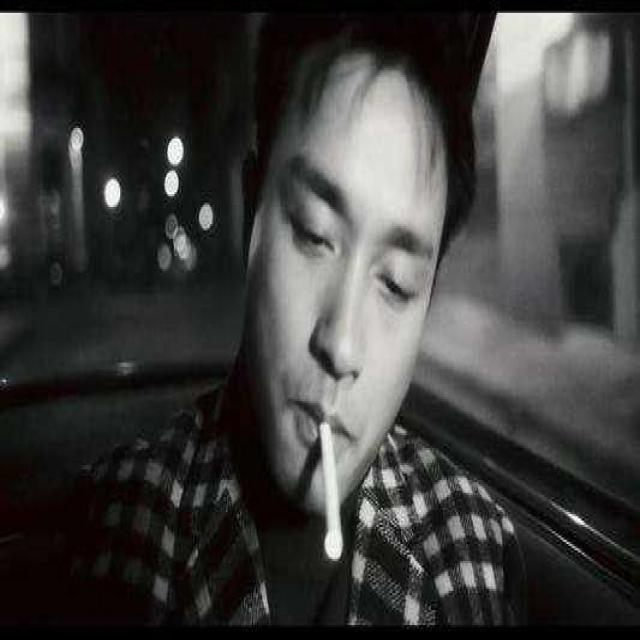cigarette: (300, 399, 353, 578)
